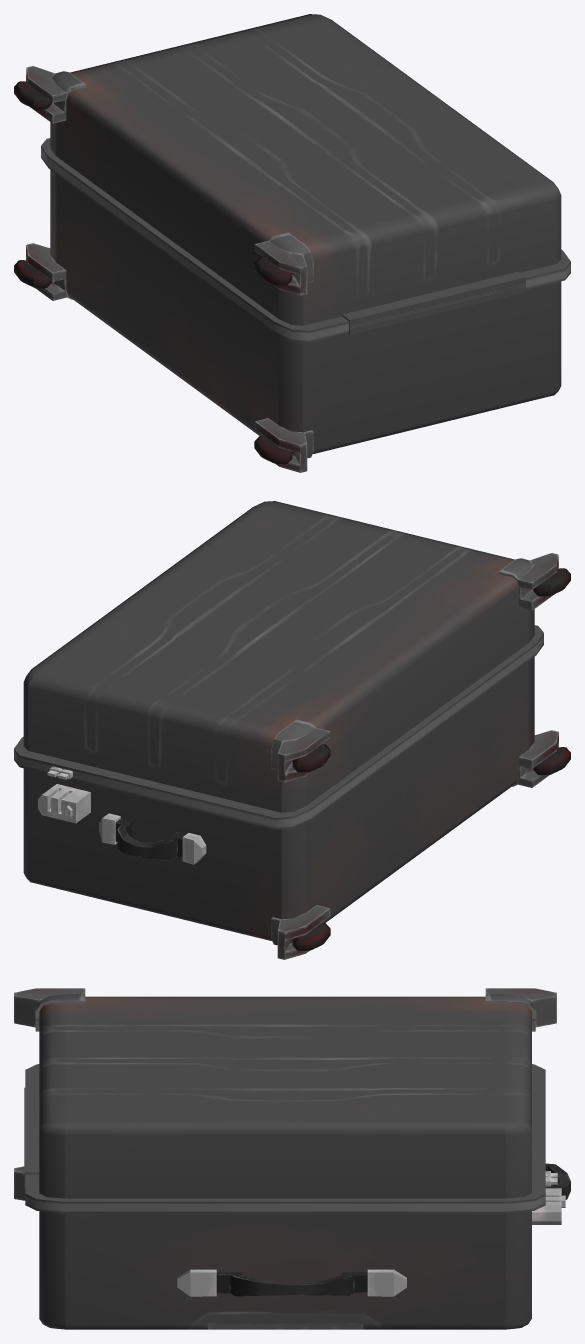
The model's file is suitcase.dae.
3 renders of one model, top to bottom at view 1: azimuth 30°, elevation 25°; view 2: azimuth 150°, elevation 25°; view 3: azimuth 270°, elevation 25°, orthographic.
Visible parts, largest first — view 1: node0; view 2: node0; view 3: node0.
Part boxes in pixels (x1=…): node0: x1=14, y1=14, x2=570, y2=472; node0: x1=14, y1=501, x2=570, y2=959; node0: x1=14, y1=988, x2=570, y2=1329.
Bounding box in the file's own units: 0.35 × 0.53 × 0.22.
1 material, 1 textured.
